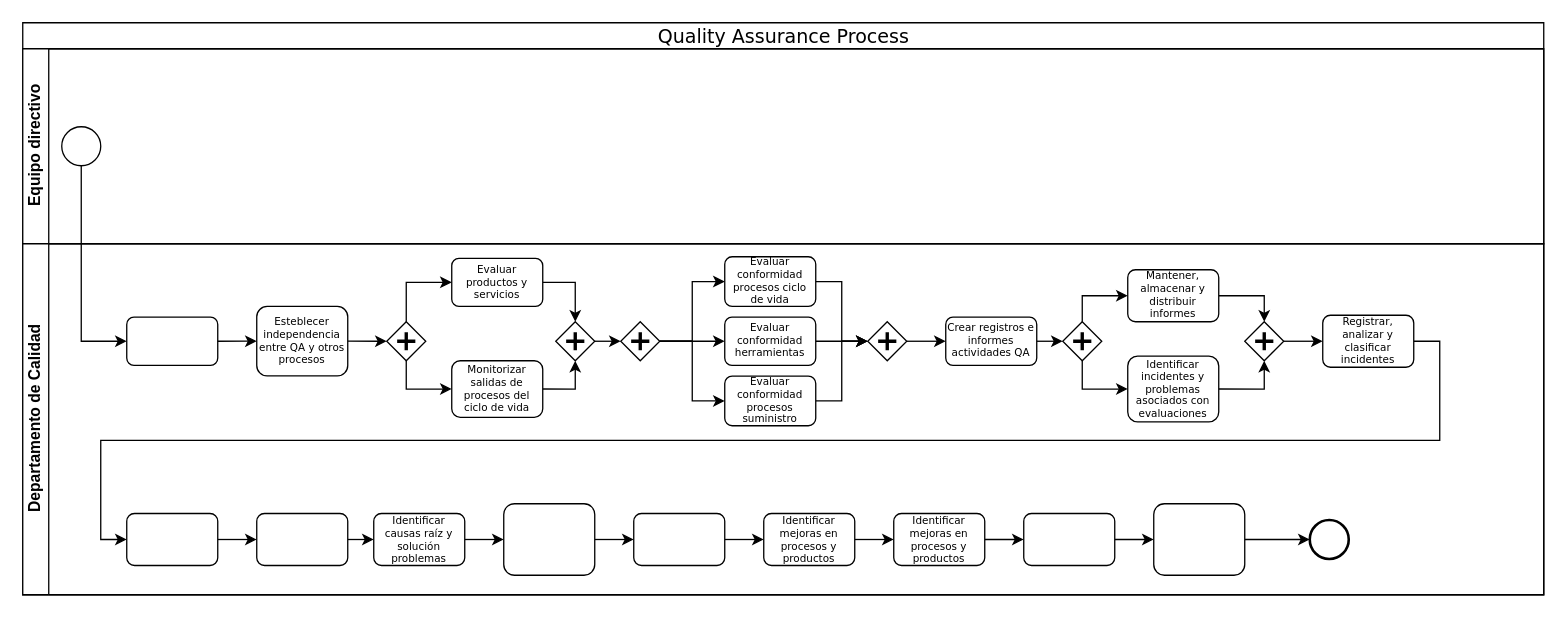
The diagram is 1567 pixels wide and 618 high, and some of its shapes have lost their labels. The centre of each missing label's shape, as x and y in pixels:
"Analizar tendencias en incidentes y problemas" belongs at (x=678, y=539).
"Definir estrategia QA" belongs at (x=171, y=340).
"Hacer seguimiento incidentes y problemas hasta el cierre" belongs at (x=1198, y=538).
"Identificar incidentes seleccionados" belongs at (x=171, y=539).
"Informar a stakeholders" belongs at (x=1068, y=539).
"Priorizar tratamiento problemas y hacer seguimiento" belongs at (x=548, y=538).
"Registrar, analizar y clasificar problemas" belongs at (x=301, y=539).
